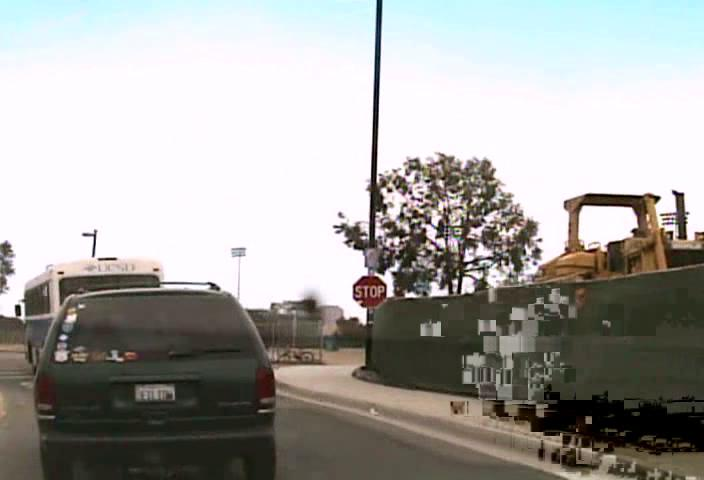stop: (351, 274, 387, 308)
